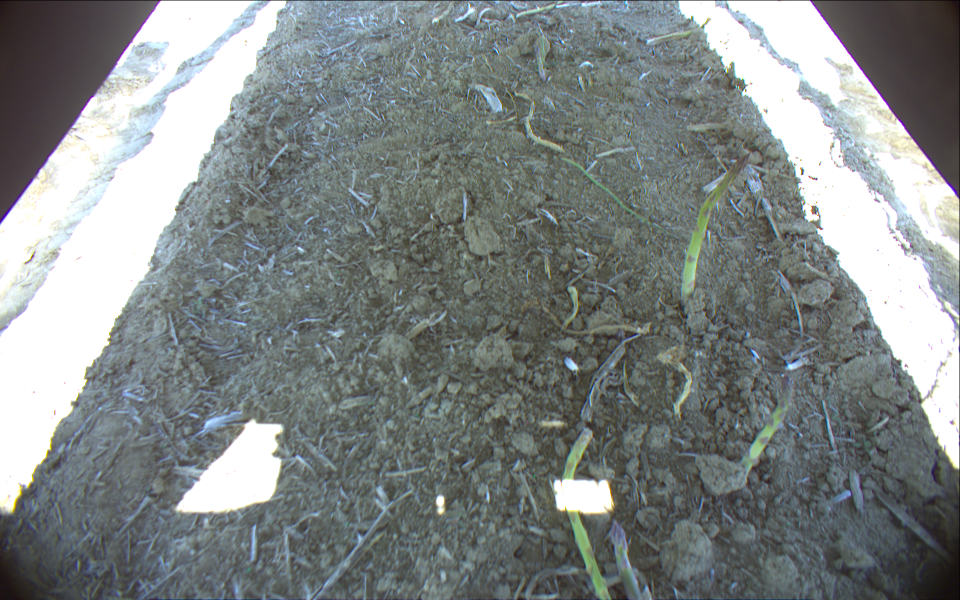aspa: (678, 148, 752, 310), (737, 375, 794, 481)
